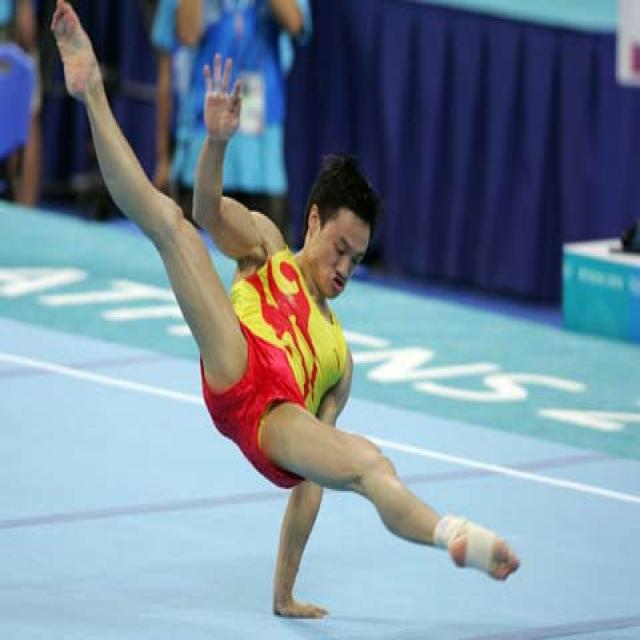fall: (71, 48, 469, 567)
